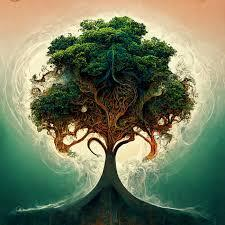tree: (31, 15, 199, 185)
